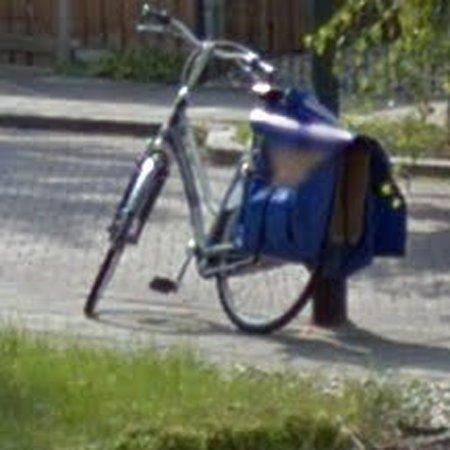bicycles: (85, 9, 406, 333)
